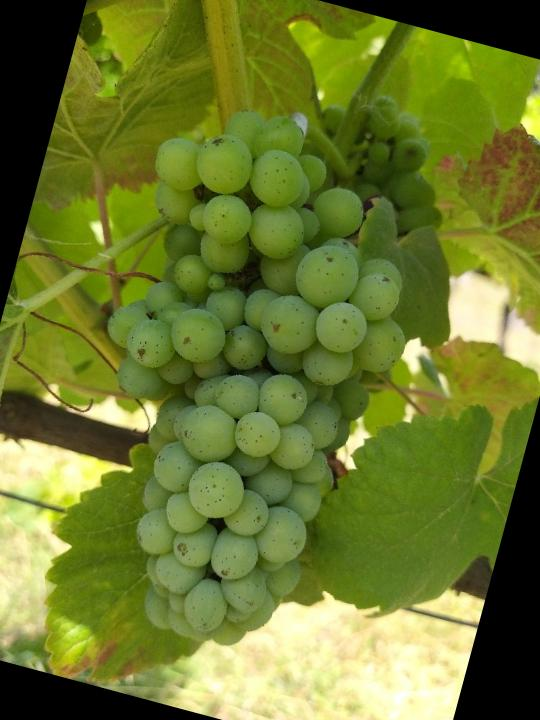grape: (35, 78, 462, 677)
